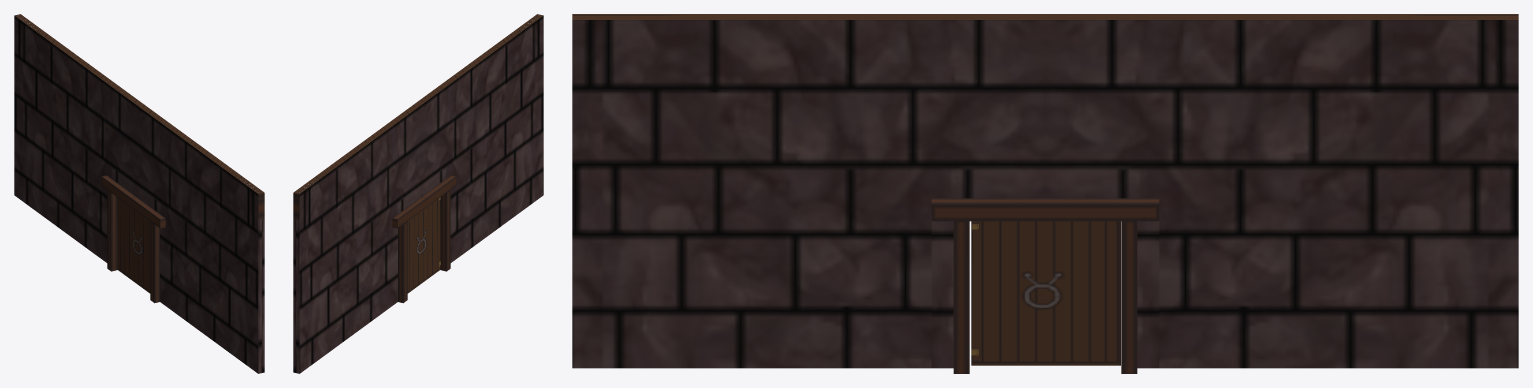
Rendered from Door.fbx.
3 renders of one model, left to right at view 1: azimuth 30°, elevation 25°; view 2: azimuth 150°, elevation 25°; view 3: azimuth 270°, elevation 25°, orthographic. The views are drawn at different scales.
Parts seen in each view (by area): view 1: Cube, Door; view 2: Cube, Door; view 3: Cube, Door.
Boxes of the visible parts, x1,y1,x2,y2 form: Cube: [14, 14, 264, 373]; Door: [117, 197, 150, 293]; Cube: [293, 14, 543, 373]; Door: [407, 197, 440, 293]; Cube: [572, 14, 1518, 373]; Door: [971, 221, 1120, 365].
Bounding box in the file's own units: 106 × 1023 × 2520.
Materials: 2 (2 with a texture image).
